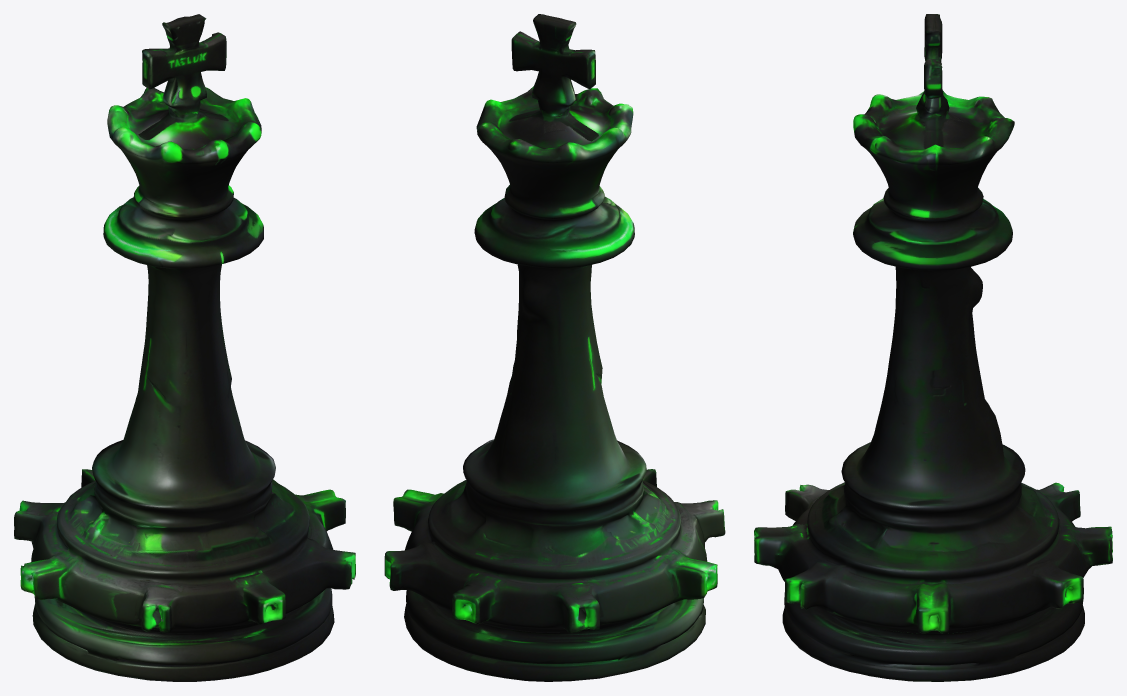
File: king.glb
3 renders of one model, left to right at view 1: azimuth 30°, elevation 25°; view 2: azimuth 150°, elevation 25°; view 3: azimuth 270°, elevation 25°, orthographic.
Bounding box in the file's own units: 1.09 × 2 × 1.09.
Materials: 1 (1 with a texture image).
